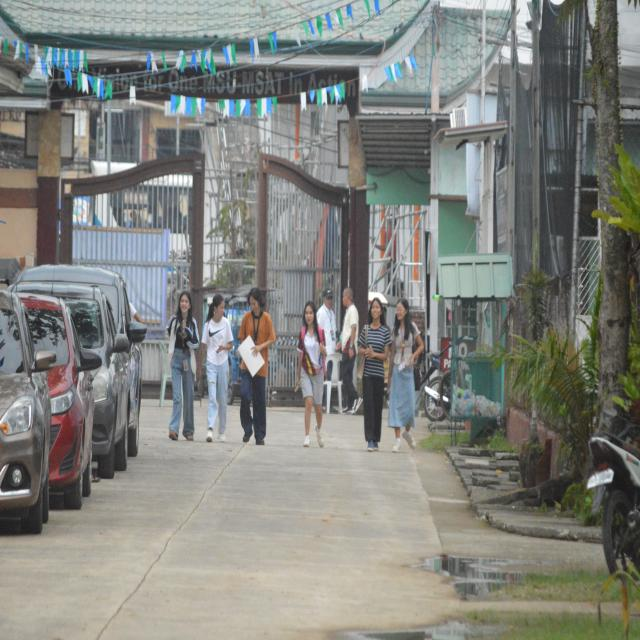person: (239, 288, 275, 444), (388, 299, 423, 452), (197, 294, 232, 442), (358, 298, 391, 451), (168, 292, 199, 440), (297, 302, 326, 447), (341, 288, 362, 413), (317, 290, 336, 356)
